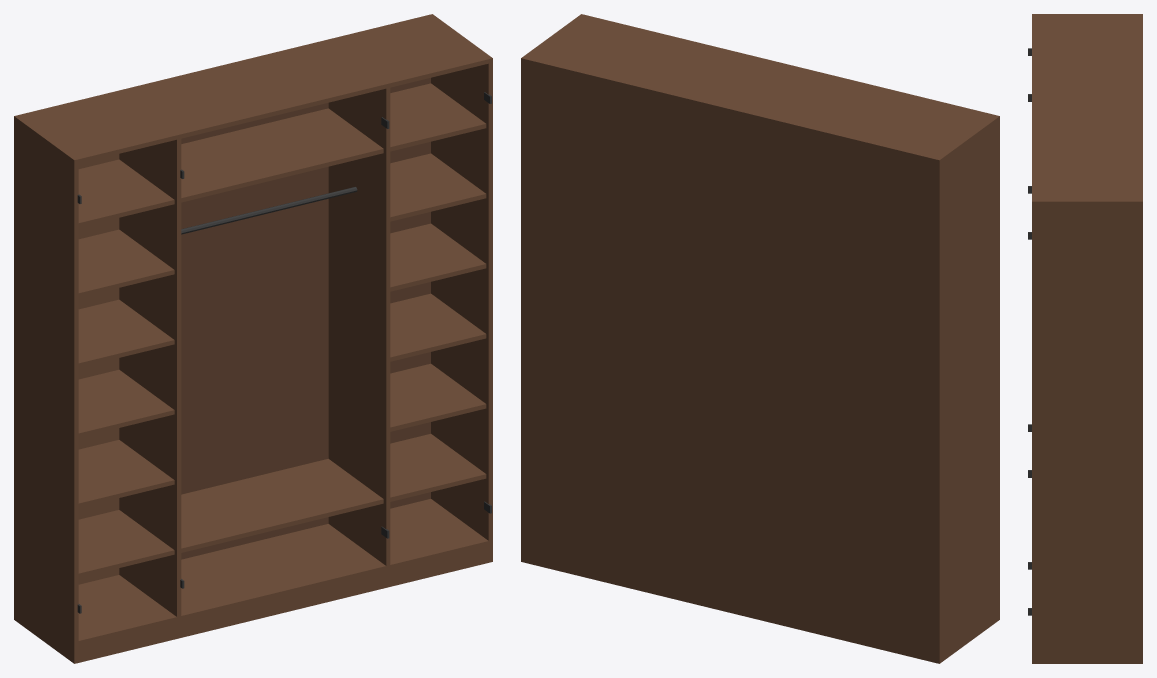
The model's file is Wardrobe6_C3.fbx.
3 renders of one model, left to right at view 1: azimuth 30°, elevation 25°; view 2: azimuth 150°, elevation 25°; view 3: azimuth 270°, elevation 25°, orthographic. The views are drawn at different scales.
Visible parts, largest first — view 1: Wardrobe6_C3; view 2: Wardrobe6_C3; view 3: Wardrobe6_C3.
Boxes of the visible parts, x1,y1,x2,y2 form: Wardrobe6_C3: (14, 14, 492, 663); Wardrobe6_C3: (521, 14, 999, 663); Wardrobe6_C3: (1028, 14, 1142, 663).
Bounding box in the file's own units: 200 × 230 × 51.79.
